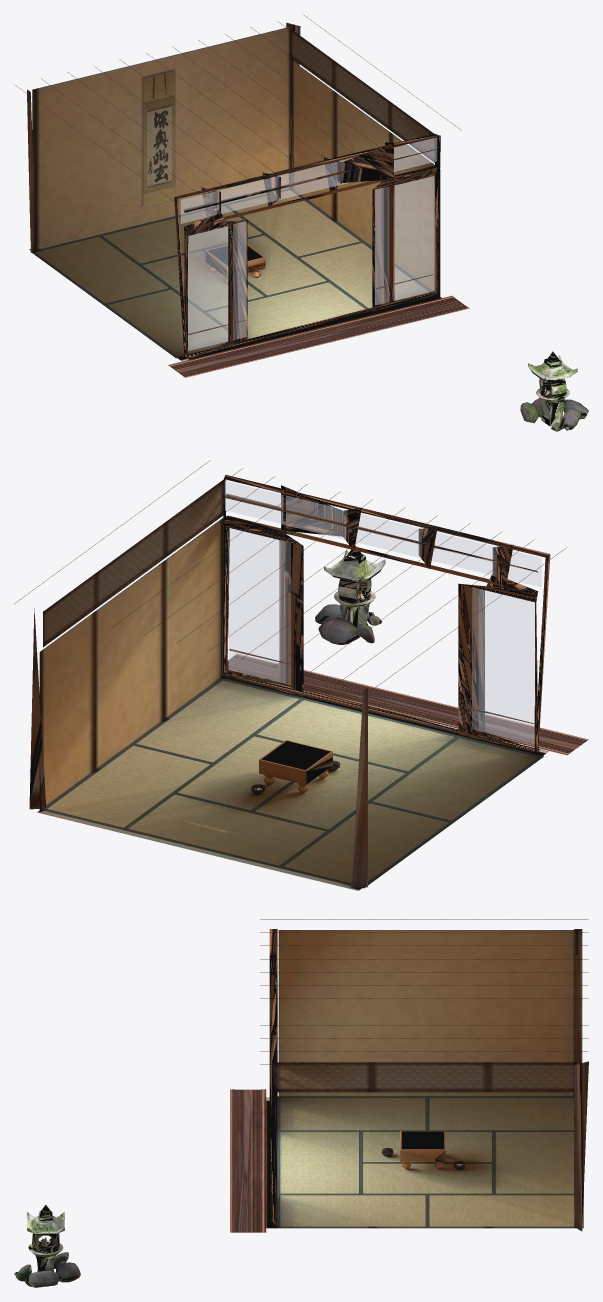
The model's file is zen-pavilion-y270.far.glb.
The picture shows the model from 3 angles, top to bottom: view 1: azimuth 30°, elevation 25°; view 2: azimuth 150°, elevation 25°; view 3: azimuth 270°, elevation 25°; orthographic projection. The views are drawn at different scales.
Visible parts, largest first — view 1: Wall.001_4, Floor_2, Beam-03.002_3, Glass03_13, Glass02_12, Footer_1, Glass01_14, Wall.002_5, Additionals_UVGrid_0_8, Roof_0, WoodBase_11; view 2: Floor_2, Wall.001_4, Beam-03.002_3, Glass02_12, Glass03_13, Glass01_14, Wall.002_5, Footer_1, Additionals_UVGrid_0_8, Roof_0, WoodBase_11, Grid_6; view 3: Wall.001_4, Floor_2, Wall.002_5, Beam-03.002_3, Footer_1, Roof_0, Additionals_UVGrid_0_8, Grid_6, WoodBase_11.
Boxes of the visible parts, left/top/right/bottom form: Wall.001_4: left=32, top=26, right=440, bottom=296; Floor_2: left=29, top=188, right=441, bottom=361; Beam-03.002_3: left=27, top=22, right=440, bottom=358; Glass03_13: left=375, top=176, right=434, bottom=305; Glass02_12: left=188, top=221, right=246, bottom=350; Footer_1: left=168, top=295, right=469, bottom=377; Glass01_14: left=180, top=137, right=436, bottom=223; Wall.002_5: left=290, top=29, right=434, bottom=162; Additionals_UVGrid_0_8: left=520, top=351, right=588, bottom=431; Roof_0: left=15, top=14, right=461, bottom=200; WoodBase_11: left=205, top=245, right=265, bottom=283; Floor_2: left=37, top=676, right=548, bottom=890; Wall.001_4: left=39, top=518, right=227, bottom=833; Beam-03.002_3: left=29, top=474, right=550, bottom=887; Glass02_12: left=461, top=583, right=534, bottom=744; Glass03_13: left=228, top=528, right=290, bottom=684; Glass01_14: left=224, top=481, right=541, bottom=587; Wall.002_5: left=43, top=480, right=223, bottom=647; Footer_1: left=227, top=653, right=588, bottom=755; Additionals_UVGrid_0_8: left=315, top=545, right=385, bottom=644; Roof_0: left=14, top=460, right=566, bottom=690; WoodBase_11: left=259, top=740, right=332, bottom=793; Grid_6: left=261, top=741, right=330, bottom=769; Wall.001_4: left=278, top=930, right=577, bottom=1096; Floor_2: left=266, top=1096, right=583, bottom=1228; Wall.002_5: left=275, top=1062, right=576, bottom=1092; Beam-03.002_3: left=269, top=929, right=588, bottom=1231; Footer_1: left=230, top=1089, right=266, bottom=1232; Roof_0: left=260, top=919, right=588, bottom=1064; Additionals_UVGrid_0_8: left=14, top=1205, right=80, bottom=1287; Grid_6: left=401, top=1131, right=444, bottom=1149; WoodBase_11: left=400, top=1131, right=445, bottom=1169.
Size of the model in its own units: 7.69 by 5.05 by 11.98.
Materials: 15 (13 with a texture image).
